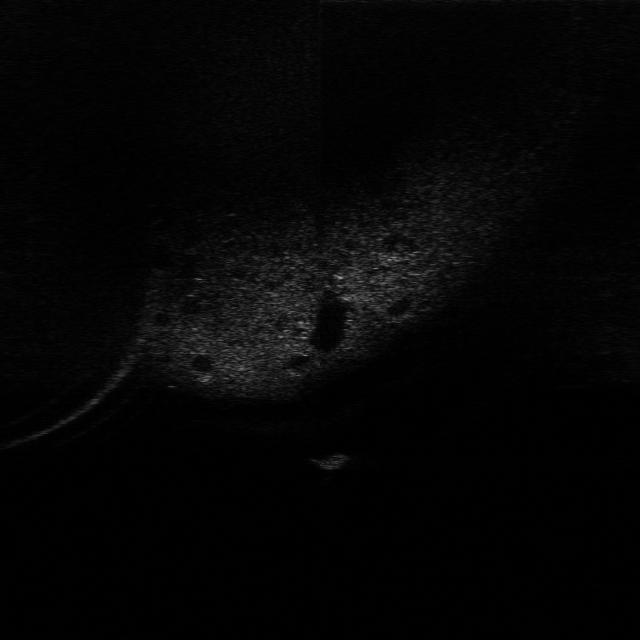cube: (306, 446, 353, 472)
